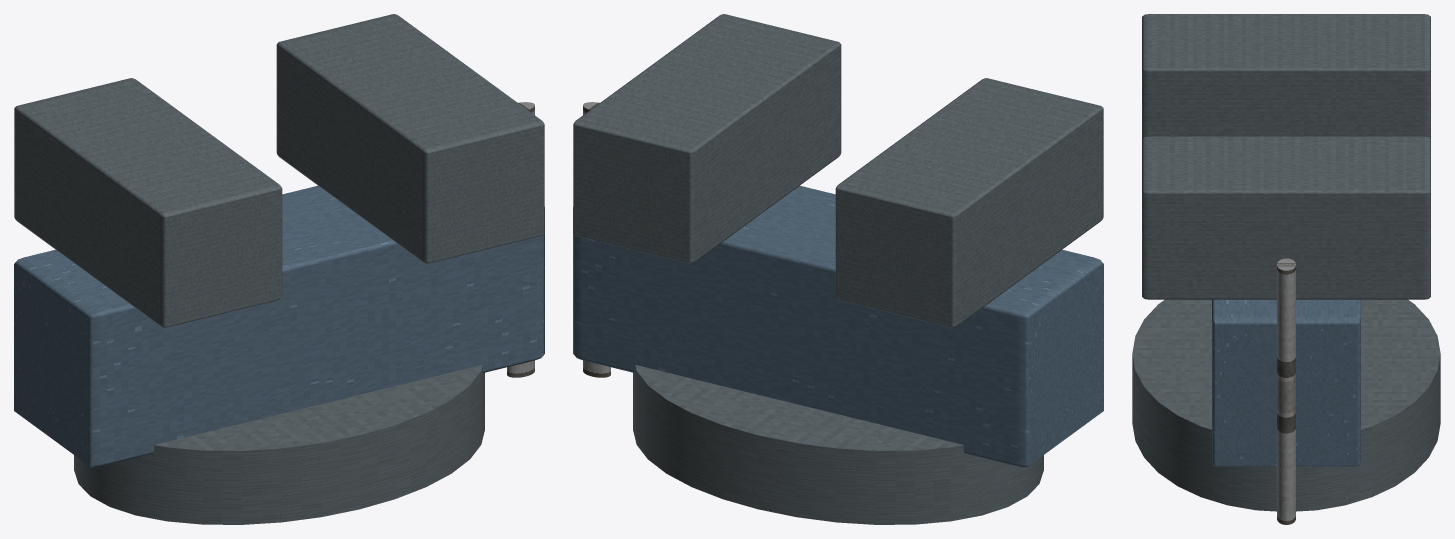
The model's file is vise.glb.
The picture shows the model from 3 angles, left to right: view 1: azimuth 30°, elevation 25°; view 2: azimuth 150°, elevation 25°; view 3: azimuth 270°, elevation 25°; orthographic projection. The views are drawn at different scales.
Visible parts, largest first — view 1: jaw (×2), body, base; view 2: jaw (×2), body, base; view 3: jaw (×2), base, body, handle.
Part boxes in pixels (box(x1,y1,x2,y2)): jaw (×2): box(14, 14, 544, 327); body: box(14, 185, 544, 467); base: box(74, 365, 484, 524); jaw (×2): box(573, 14, 1103, 327); body: box(573, 185, 1103, 467); base: box(633, 365, 1043, 524); jaw (×2): box(1142, 14, 1430, 299); base: box(1132, 299, 1440, 511); body: box(1212, 299, 1360, 466); handle: box(1277, 258, 1295, 524).
Size of the model in its own units: 0.2852 by 0.19 by 0.1649.
3 materials, 3 textured.
